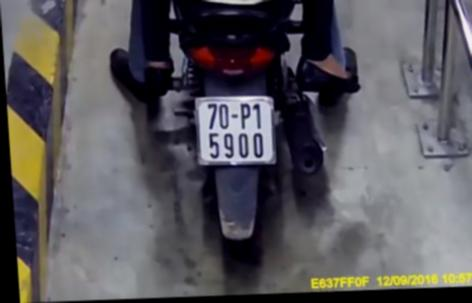License_Plate: (188, 89, 289, 181)
